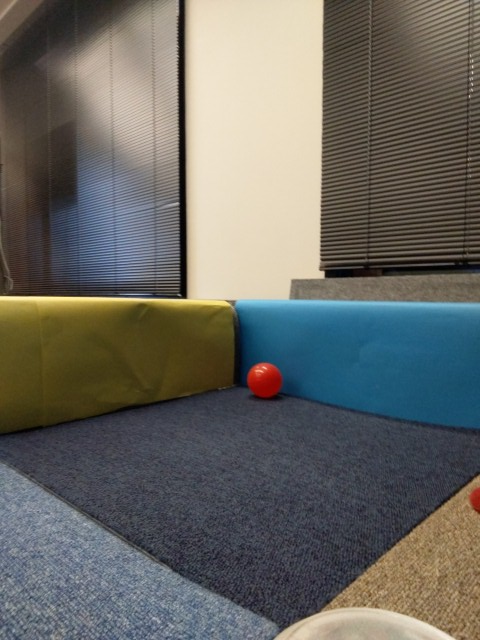o: (264, 597, 467, 640)
